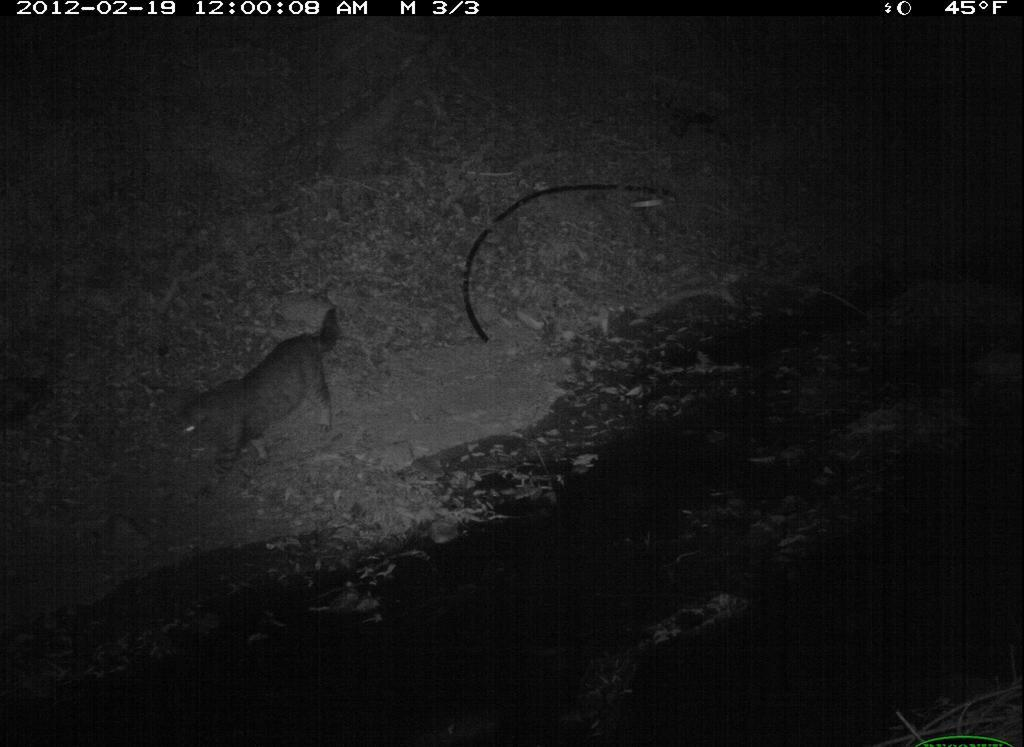cat: (162, 296, 358, 505)
